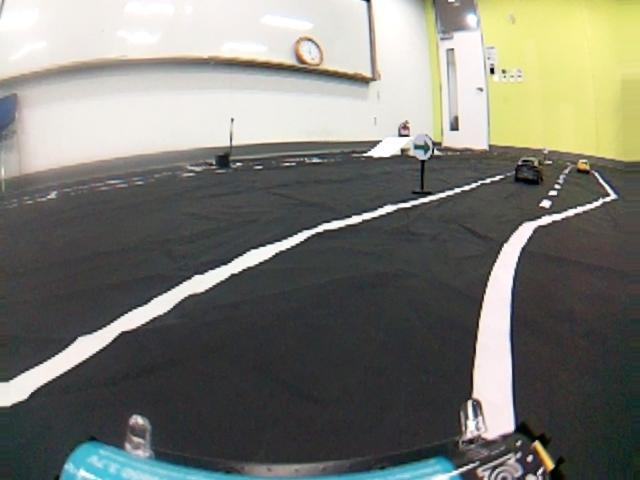car: (510, 148, 544, 184), (568, 149, 598, 175)
sign_right: (406, 134, 438, 162)
straight: (9, 244, 640, 480)
